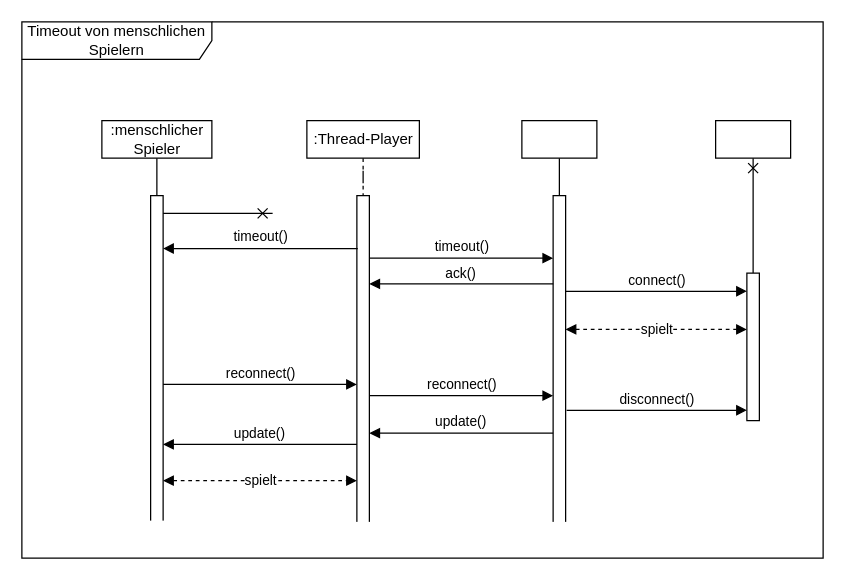
This 845x580 diagram has some shape labels left out. Each missing label, with the centre of its shape:
:KI: (752,138)
:Server: (559,138)
